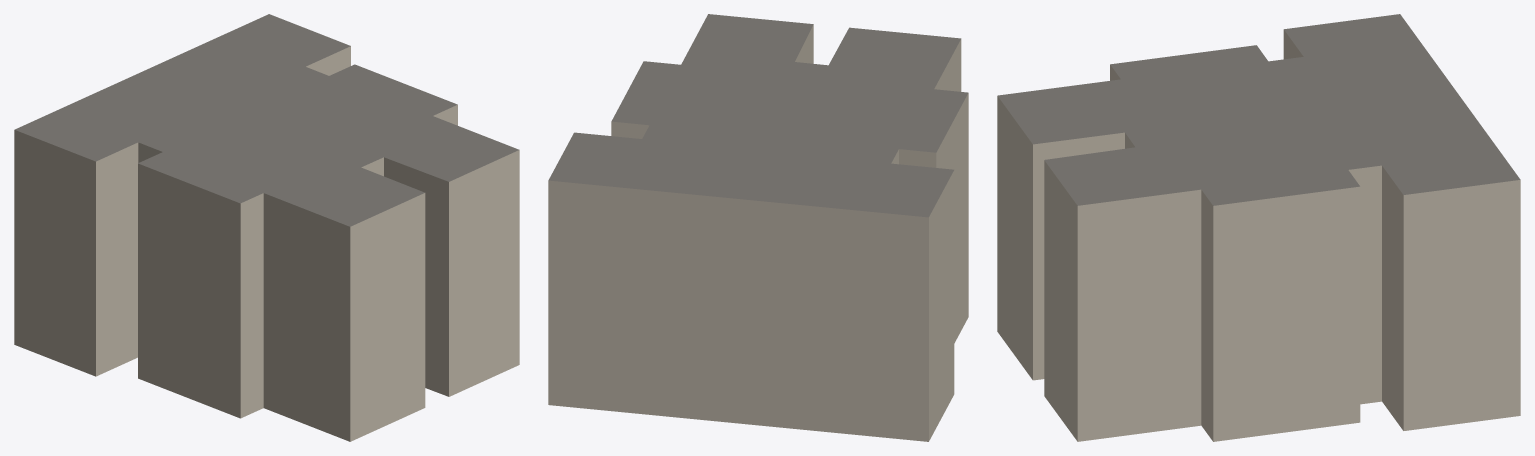
3 renders of one model, left to right at view 1: azimuth 30°, elevation 25°; view 2: azimuth 150°, elevation 25°; view 3: azimuth 270°, elevation 25°, orthographic. The views are drawn at different scales.
Visible parts, largest first — view 1: HP-w1435372642; view 2: HP-w1435372642; view 3: HP-w1435372642.
Boxes of the visible parts, left/top/right/bottom form: HP-w1435372642: left=14, top=14, right=519, bottom=441; HP-w1435372642: left=548, top=14, right=968, bottom=441; HP-w1435372642: left=997, top=14, right=1520, bottom=441.
Bounding box in the file's own units: 31.39 × 18 × 36.17.
